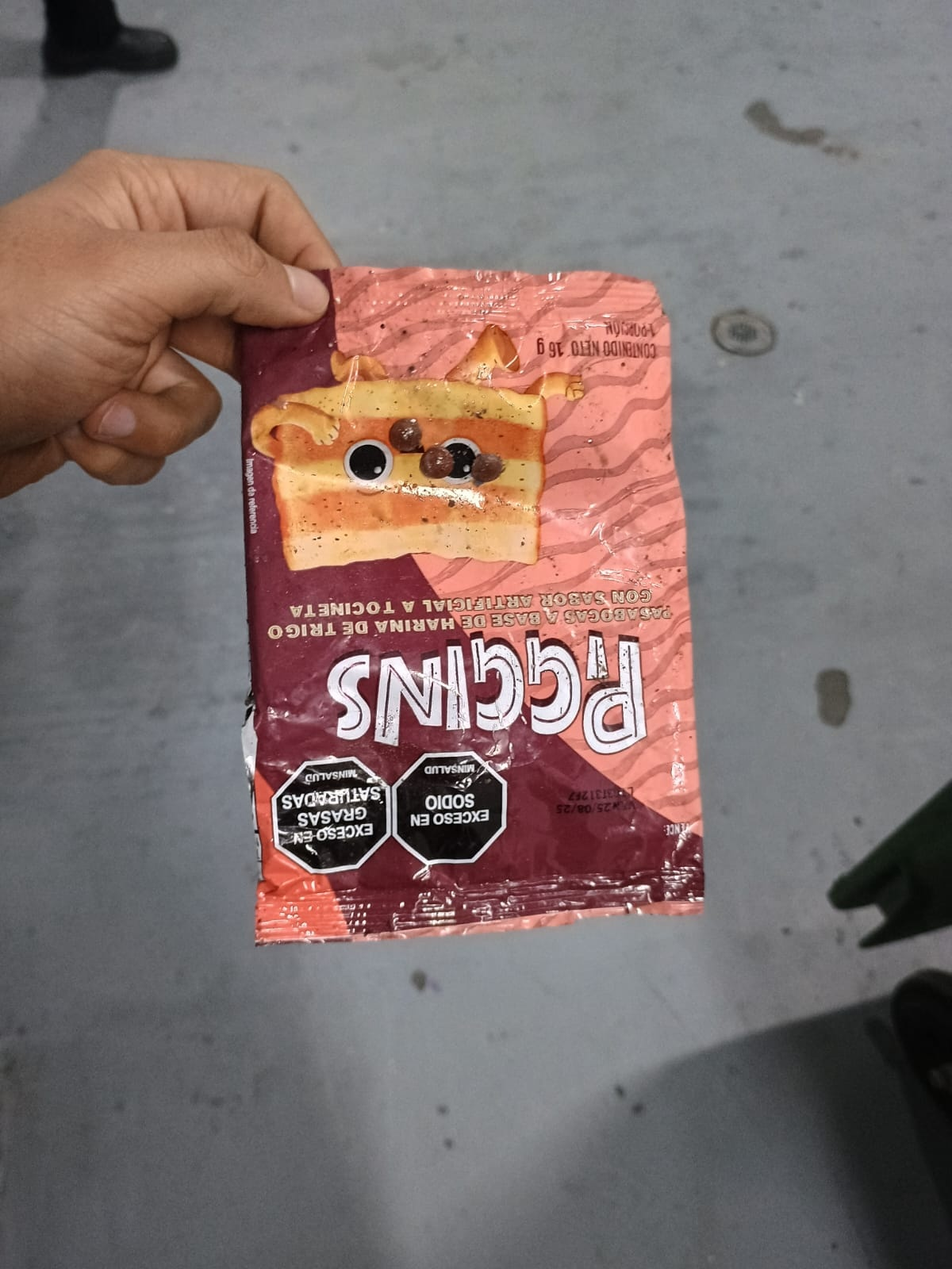Ordinario: (237, 265, 706, 949)
